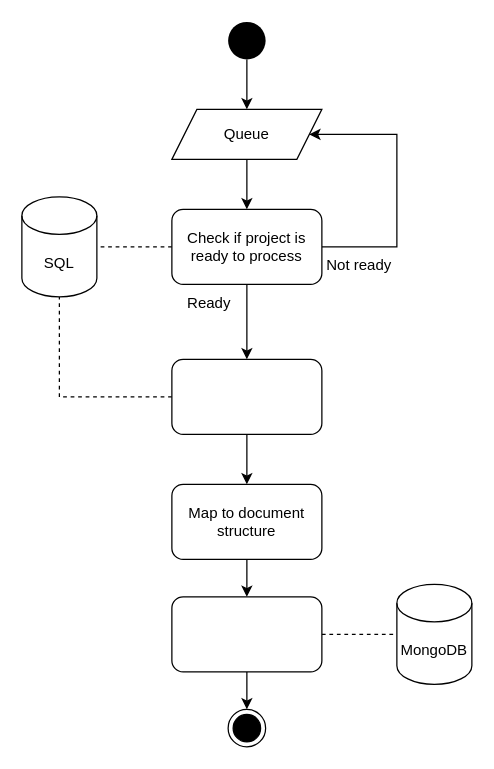
Some shapes in this 494 by 769 pixel diagram are drawn without their labels. The shapes that lost their labels are listed below. From the top down, each one's box as (x1, y1, x2, y2) in pixels, then its label:
(171, 358, 322, 434): Get project data
(171, 596, 322, 672): Insert document on non-relational DB
